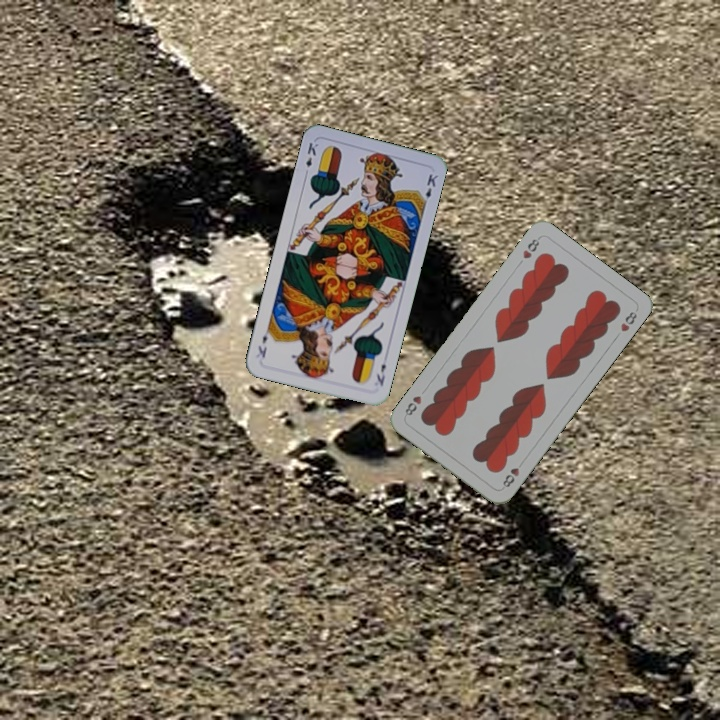EK: (300, 138, 321, 179), (372, 360, 389, 389)
H8: (499, 456, 527, 490), (518, 233, 543, 261)
